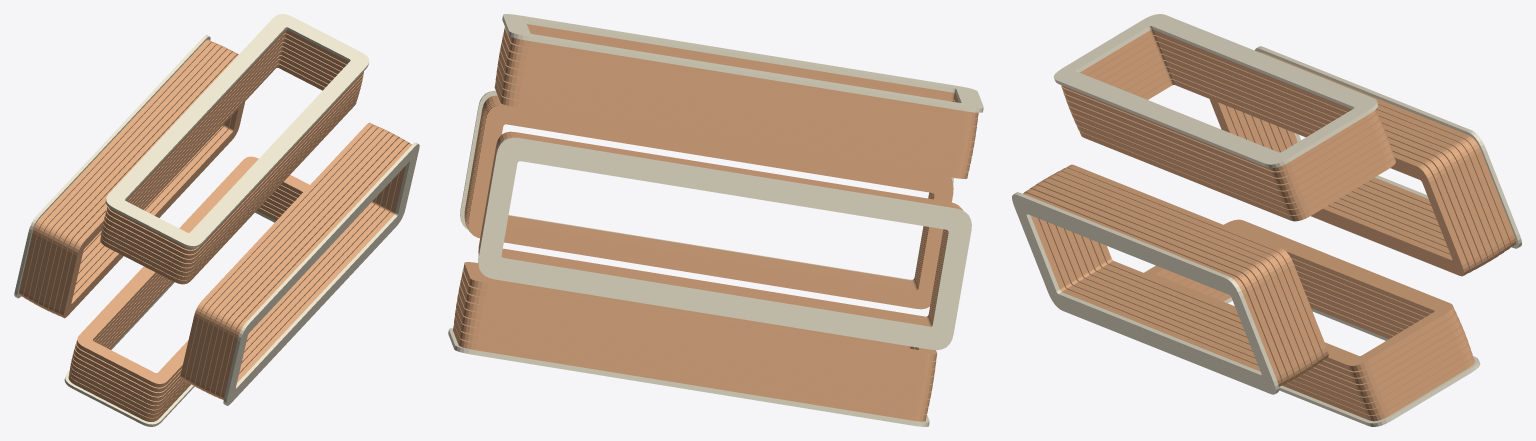
The model's file is sync_fieldWinding.glb.
3 views of the same model, side by side, from view 1: azimuth 30°, elevation 25°; view 2: azimuth 150°, elevation 25°; view 3: azimuth 270°, elevation 25° (orthographic). The views are drawn at different scales.
Bounding box in the file's own units: 1.05 × 0.7744 × 0.9755.
